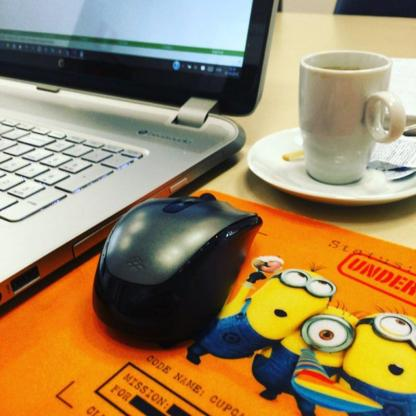board: (0, 0, 280, 303)
